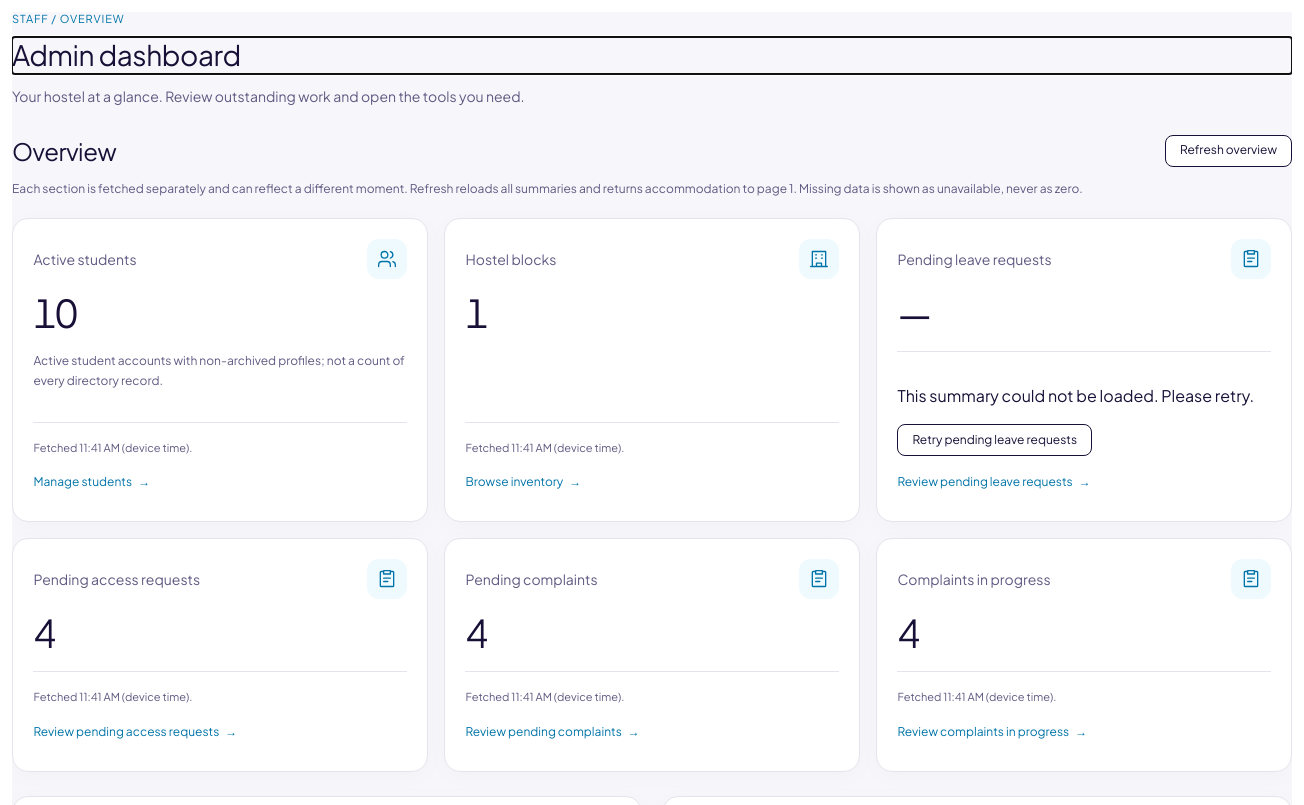
retries only a failed metric while retaining other successful summaries
The image size is (1304, 805).
Expected: the message does not show "private body", [898,384,1254,408]
Expected: the text "10" is shown, [34,291,76,335]
Click the button "Retry pending leave requests" at (995, 440), box [898,424,1092,456]
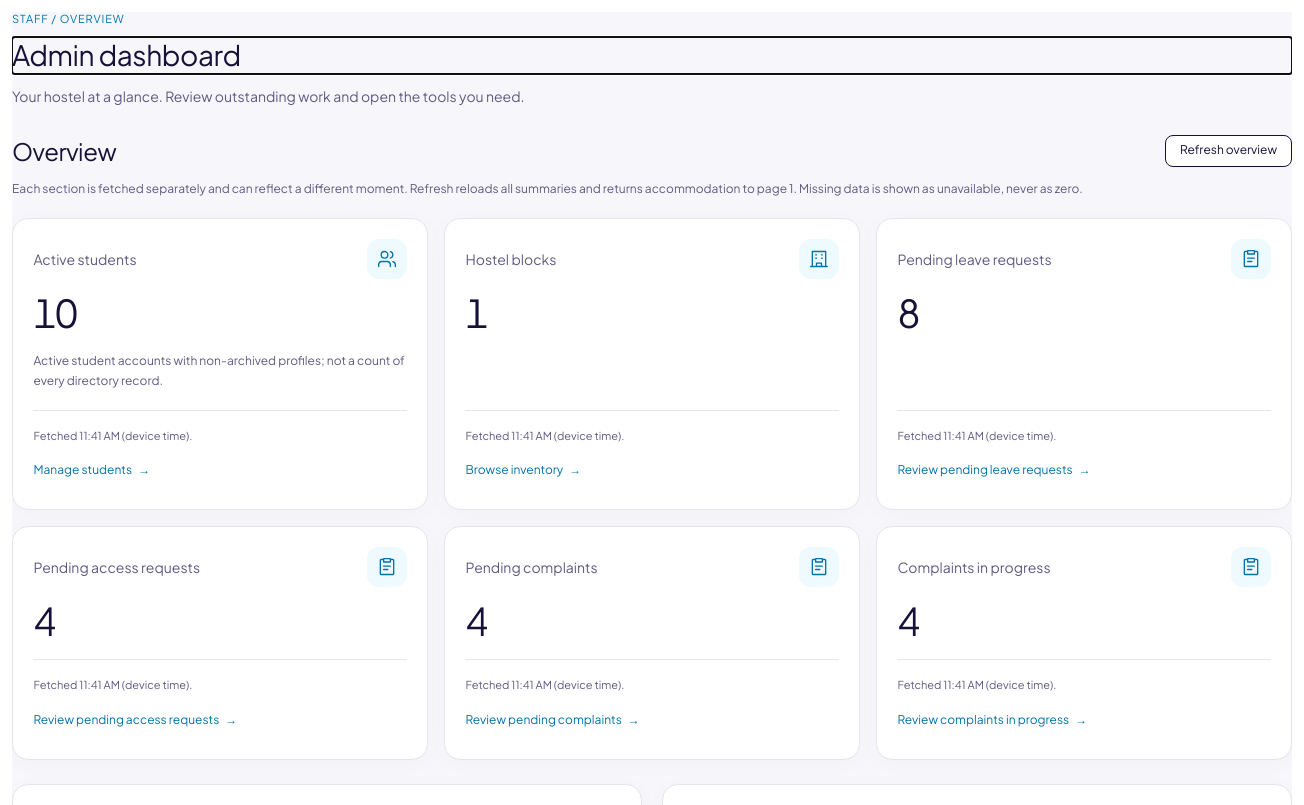
Now the text "8" is shown, box [898,291,919,335]
